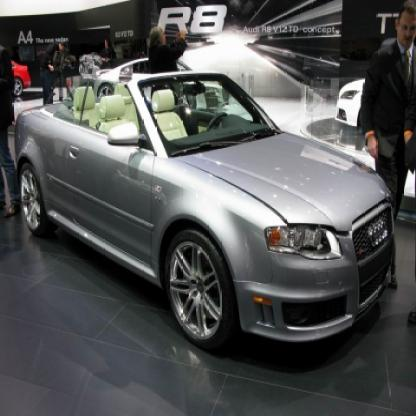Vehicle: (17, 72, 396, 354)
